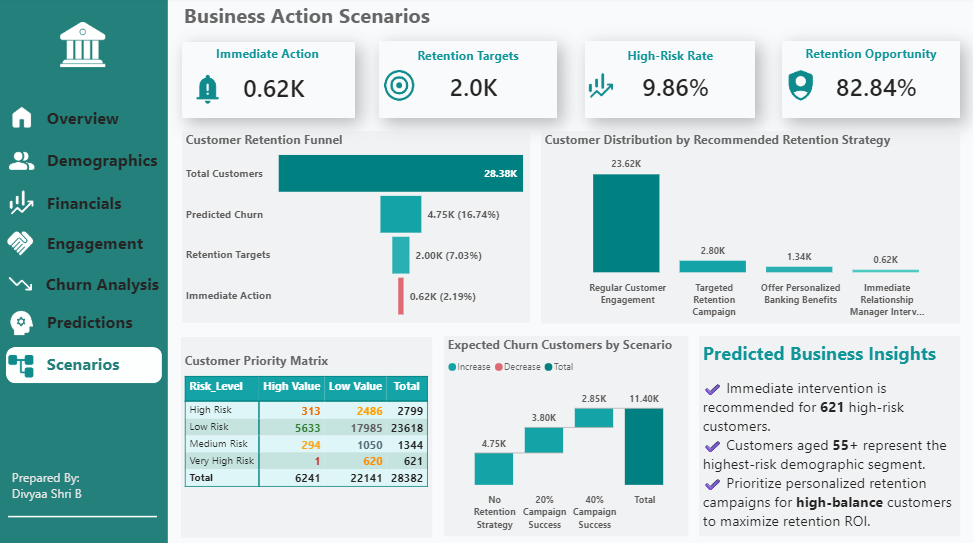

The dashboard page shown, as its layout file describes it:
{"tool":"powerbi","page":{"name":"Scenario","canvas":[1280,720],"ordinal":6},"visuals":[{"type":"shape","box":[0,0,220.6,720.4],"z":0},{"type":"textbox","box":[57.3,139.1,147.3,37.6],"z":1000},{"type":"textbox","box":[57.2,194.1,163.5,43.9],"z":2000},{"type":"textbox","box":[57.2,249.9,163.5,43.9],"z":3000},{"type":"textbox","box":[56.2,356,164.2,43.2],"z":4000},{"type":"shape","box":[8.6,457.9,204.5,47.5],"z":5000},{"type":"textbox","box":[57.6,460.8,162.7,41.8],"z":6000},{"type":"textbox","box":[57.6,406.1,162.7,41.8],"z":7000},{"type":"cardVisual","fields":{"Data":["risk_summary.High Risk Customer %"]},"box":[767.5,57.6,223.2,100.8],"z":8000},{"type":"cardVisual","fields":{"Data":["prediction_results.Retention Opportunity %"]},"box":[1025.3,57.6,233.3,100.8],"z":9000},{"type":"textbox","box":[237.6,0,426.2,50.4],"z":10000},{"type":"textbox","box":[767.5,60.5,223.2,34.6],"z":11000},{"type":"textbox","box":[1025.3,57.6,233.3,36],"z":12000},{"type":"image","box":[1025.3,92.2,49,47.5],"z":13000},{"type":"image","box":[10.1,406.1,37.4,41.8],"z":14000},{"type":"image","box":[8.6,460.8,38.9,44.6],"z":15000},{"type":"textbox","box":[12,612.8,196.7,59.8],"z":16000},{"type":"shape","box":[12,672.6,195.4,14.6],"z":17000},{"type":"image","box":[67.7,33.1,83.5,59],"z":18000},{"type":"image","box":[8.6,352.8,37.4,43.2],"z":19000},{"type":"image","box":[11.5,132.5,36,50.4],"z":20000},{"type":"image","box":[11.5,191.5,36,46.1],"z":21000},{"type":"image","box":[8.6,246.2,38.9,47.5],"z":22000},{"type":"image","box":[767.5,95,40.3,41.8],"z":23000},{"type":"cardVisual","fields":{"Data":["risk_summary.Very High Risk Customers"]},"box":[239.6,58.9,226.5,99.5],"z":24000},{"type":"textbox","box":[236.9,57.6,229.1,40.6],"z":25000},{"type":"cardVisual","fields":{"Data":["prediction_results.Target Retention Customers"]},"box":[496.8,57.6,233.3,100.8],"z":26000},{"type":"textbox","box":[496.8,60.5,233.3,37.4],"z":27000},{"type":"image","box":[496.8,92.2,53.3,47.5],"z":28000},{"type":"image","box":[241.9,97.9,61.9,44.6],"z":29000},{"type":"clusteredColumnChart","title":"Customer Distribution by Recommended Retention Strategy","fields":{"Category":["prediction_results.Recommended_Action"],"Y":["CountNonNull(prediction_results.Customer_ID)"]},"box":[709.9,175.7,548.6,252],"z":30000},{"type":"actionButton","box":[56.2,138.2,154.1,40.3],"z":31000},{"type":"actionButton","box":[59,194.4,154.1,40.3],"z":32000},{"type":"actionButton","box":[54.7,302.4,154.1,40.3],"z":33000},{"type":"actionButton","box":[54.7,355.7,165.6,40.3],"z":34000},{"type":"actionButton","box":[57.6,406.1,154.1,40.3],"z":35000},{"type":"textbox","box":[57.6,302,164.2,43.2],"z":36000},{"type":"image","box":[7.2,301,40.3,43.2],"z":37000},{"type":"actionButton","box":[59,302.4,146.9,40.3],"z":38000},{"type":"funnel","title":"Customer Retention Funnel","fields":{"Y":["churn_prediction.Total Customers","Sum(prediction_results.Predicted_Churn)","prediction_results.Target Retention Customers","risk_summary.Very High Risk Customers"]},"box":[239,175.7,456.5,250.6],"z":39000},{"type":"textbox","box":[915.8,443.9,341.6,261.8],"z":40000},{"type":"pivotTable","title":"Customer Priority Matrix","fields":{"Columns":["churn_prediction.Customer Value"],"Values":["Count(churn_prediction.customer_id)"],"Rows":["prediction_results.Risk_Level"]},"box":[238.1,444.6,328.9,263],"z":41000},{"type":"waterfallChart","title":"Expected Churn Customers by Scenario","fields":{"Category":["business_scenarios.Scenario"],"Y":["Sum(business_scenarios.Expected_Churn_Customers)"]},"box":[582.2,443.9,320.3,261.8],"z":42001}]}

Visuals, with their boxes in screenshot pixels (x1, y1, x2, y2), scaled from the page's 1280x720 canvas onto the 973x543 screenshot:
shape: bbox(0, 0, 168, 542)
textbox: bbox(44, 105, 156, 133)
textbox: bbox(43, 146, 168, 179)
textbox: bbox(43, 188, 168, 222)
textbox: bbox(43, 268, 168, 301)
shape: bbox(7, 345, 162, 381)
textbox: bbox(44, 348, 167, 379)
textbox: bbox(44, 306, 167, 338)
cardVisual - risk_summary.High Risk Customer %: bbox(583, 43, 753, 119)
cardVisual - prediction_results.Retention Opportunity %: bbox(779, 43, 957, 119)
textbox: bbox(181, 0, 505, 38)
textbox: bbox(583, 46, 753, 72)
textbox: bbox(779, 43, 957, 71)
image: bbox(779, 70, 817, 105)
image: bbox(8, 306, 36, 338)
image: bbox(7, 348, 36, 381)
textbox: bbox(9, 462, 159, 507)
shape: bbox(9, 507, 158, 518)
image: bbox(51, 25, 115, 69)
image: bbox(7, 266, 35, 299)
image: bbox(9, 100, 36, 138)
image: bbox(9, 144, 36, 179)
image: bbox(7, 186, 36, 221)
image: bbox(583, 72, 614, 103)
cardVisual - risk_summary.Very High Risk Customers: bbox(182, 44, 354, 119)
textbox: bbox(180, 43, 354, 74)
cardVisual - prediction_results.Target Retention Customers: bbox(378, 43, 555, 119)
textbox: bbox(378, 46, 555, 74)
image: bbox(378, 70, 418, 105)
image: bbox(184, 74, 231, 107)
"Customer Distribution by Recommended Retention Strategy" clusteredColumnChart: bbox(540, 133, 957, 323)
actionButton: bbox(43, 104, 160, 135)
actionButton: bbox(45, 147, 162, 177)
actionButton: bbox(42, 228, 159, 258)
actionButton: bbox(42, 268, 167, 299)
actionButton: bbox(44, 306, 161, 337)
textbox: bbox(44, 228, 169, 260)
image: bbox(5, 227, 36, 260)
actionButton: bbox(45, 228, 157, 258)
"Customer Retention Funnel" funnel: bbox(182, 133, 529, 322)
textbox: bbox(696, 335, 956, 532)
"Customer Priority Matrix" pivotTable: bbox(181, 335, 431, 534)
"Expected Churn Customers by Scenario" waterfallChart: bbox(443, 335, 686, 532)
